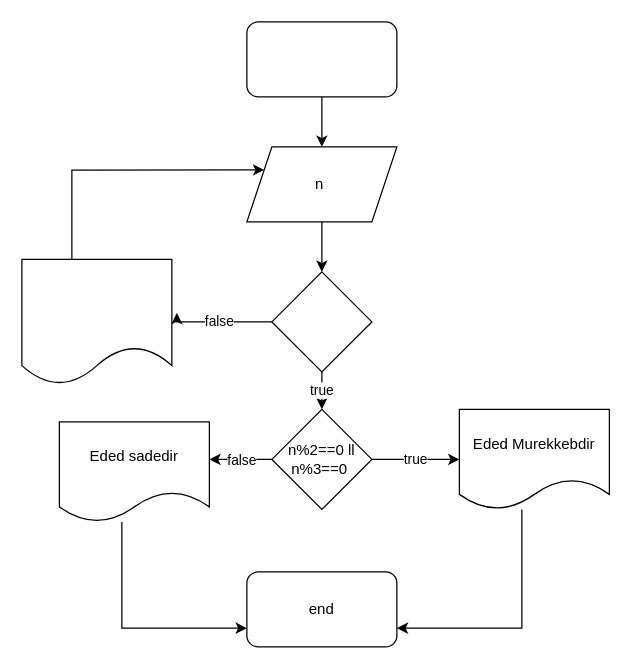
Some shapes in this 631 by 669 pixel diagram are drawn without their labels. Each missing label, with the centre of its shape:
"1 ne sade ededdir nede murekkeb 2 ve 3 ise sade ededleridr" goes at (x=96, y=321).
"n>3" goes at (x=321, y=321).
"start" goes at (x=321, y=59).
